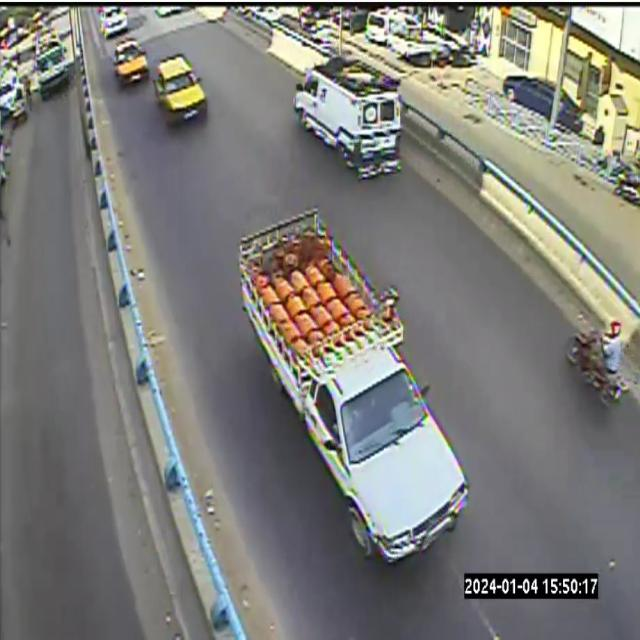car: (239, 209, 468, 562), (293, 55, 401, 177), (152, 54, 207, 124), (114, 39, 148, 85), (271, 32, 308, 58), (101, 7, 128, 38)
